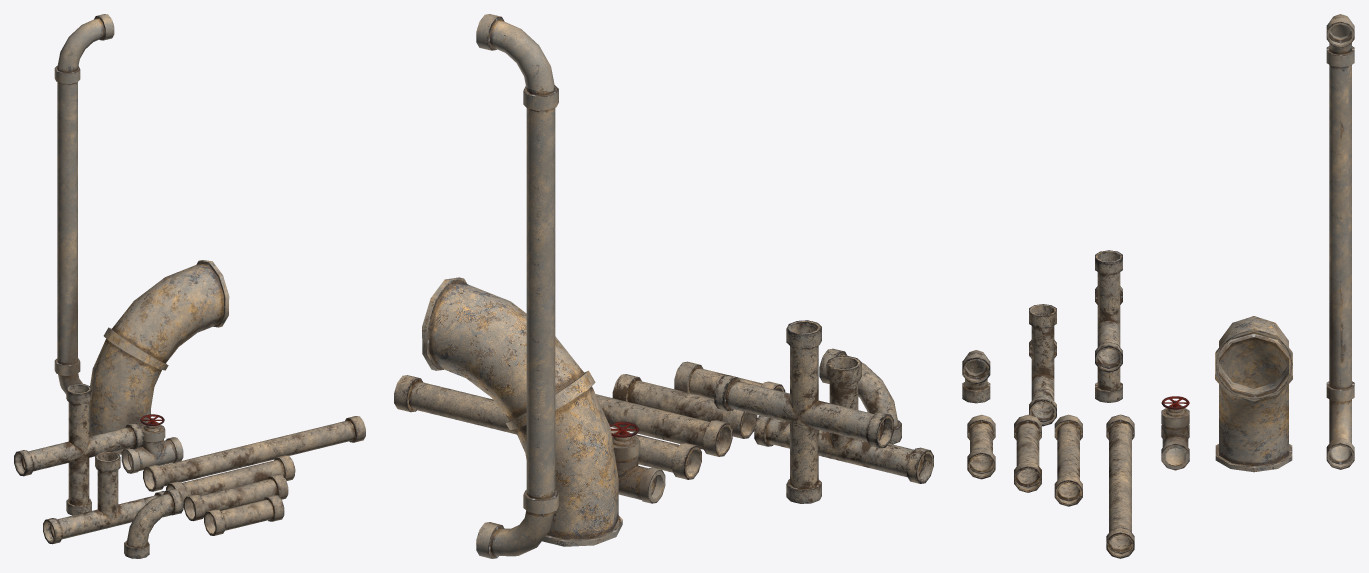
The model's file is modular_industrial_pipes.glb.
The picture shows the model from 3 angles, left to right: view 1: azimuth 30°, elevation 25°; view 2: azimuth 150°, elevation 25°; view 3: azimuth 270°, elevation 25°; orthographic projection. The views are drawn at different scales.
Parts seen in each view (by area): view 1: Solo_Thick_Pipe_low, Pipe_Bracket_low, Pipe_Junction_4Way, Pipe_Straight_ExtraLong_low, Pipe_Junction_3Way, Pipe_Straight_Medium_low, Pipe_Straight_Long_low, Pipe_Joint, Pipe_Valve_Junction_low, Pipe_Straight_Short_low; view 2: Solo_Thick_Pipe_low, Pipe_Bracket_low, Pipe_Junction_4Way, Pipe_Junction_3Way, Pipe_Straight_ExtraLong_low, Pipe_Straight_Long_low, Pipe_Straight_Medium_low, Pipe_Valve_Junction_low, Pipe_Joint, Pipe_Straight_Short_low; view 3: Pipe_Bracket_low, Solo_Thick_Pipe_low, Pipe_Junction_4Way, Pipe_Straight_ExtraLong_low, Pipe_Junction_3Way, Pipe_Straight_Long_low, Pipe_Straight_Medium_low, Pipe_Valve_Junction_low, Pipe_Straight_Short_low, Pipe_Joint.
Boxes of the visible parts, x1,y1,x2,y2 form: Solo_Thick_Pipe_low: [89, 260, 229, 454]; Pipe_Bracket_low: [54, 14, 114, 394]; Pipe_Junction_4Way: [14, 383, 143, 515]; Pipe_Straight_ExtraLong_low: [143, 416, 365, 491]; Pipe_Junction_3Way: [43, 451, 170, 544]; Pipe_Straight_Medium_low: [183, 474, 288, 521]; Pipe_Straight_Long_low: [166, 455, 295, 500]; Pipe_Joint: [124, 489, 183, 558]; Pipe_Valve_Junction_low: [121, 421, 183, 473]; Pipe_Straight_Short_low: [204, 495, 284, 535]; Solo_Thick_Pipe_low: [422, 277, 622, 546]; Pipe_Bracket_low: [476, 14, 558, 558]; Pipe_Junction_4Way: [714, 320, 893, 503]; Pipe_Junction_3Way: [754, 356, 933, 483]; Pipe_Straight_ExtraLong_low: [394, 375, 701, 479]; Pipe_Straight_Long_low: [595, 394, 732, 456]; Pipe_Straight_Medium_low: [612, 374, 757, 438]; Pipe_Valve_Junction_low: [612, 431, 665, 503]; Pipe_Joint: [819, 348, 901, 444]; Pipe_Straight_Short_low: [674, 361, 785, 398]; Pipe_Bracket_low: [1326, 14, 1354, 469]; Solo_Thick_Pipe_low: [1215, 316, 1292, 472]; Pipe_Junction_4Way: [1095, 250, 1122, 402]; Pipe_Straight_ExtraLong_low: [1106, 414, 1134, 558]; Pipe_Junction_3Way: [1029, 304, 1056, 426]; Pipe_Straight_Long_low: [1054, 414, 1082, 506]; Pipe_Straight_Medium_low: [1014, 414, 1041, 492]; Pipe_Valve_Junction_low: [1161, 404, 1189, 470]; Pipe_Straight_Short_low: [967, 414, 995, 479]; Pipe_Joint: [962, 350, 990, 403].
Bounding box in the file's own units: 2.75 × 3 × 2.36.
Materials: 3 (3 with a texture image).
